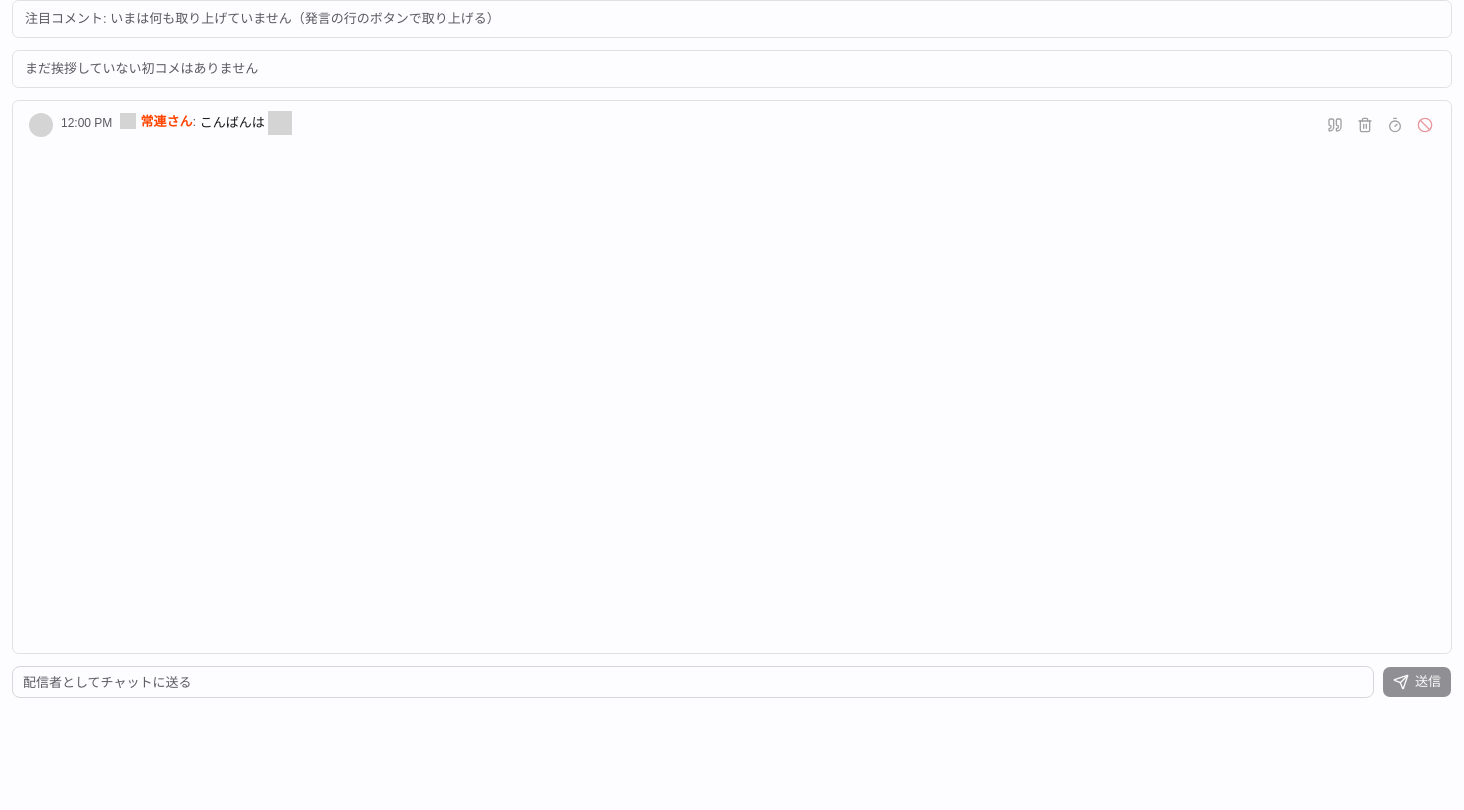
Test case: CommentsPage › 注目コメント › 発言の行のボタンを押すと、その発言を注目コメントに設定する
This screenshot has width=1464, height=810.
Click the button named "この発言を注目コメントにする" at (1335, 125), box [1321, 111, 1349, 139]
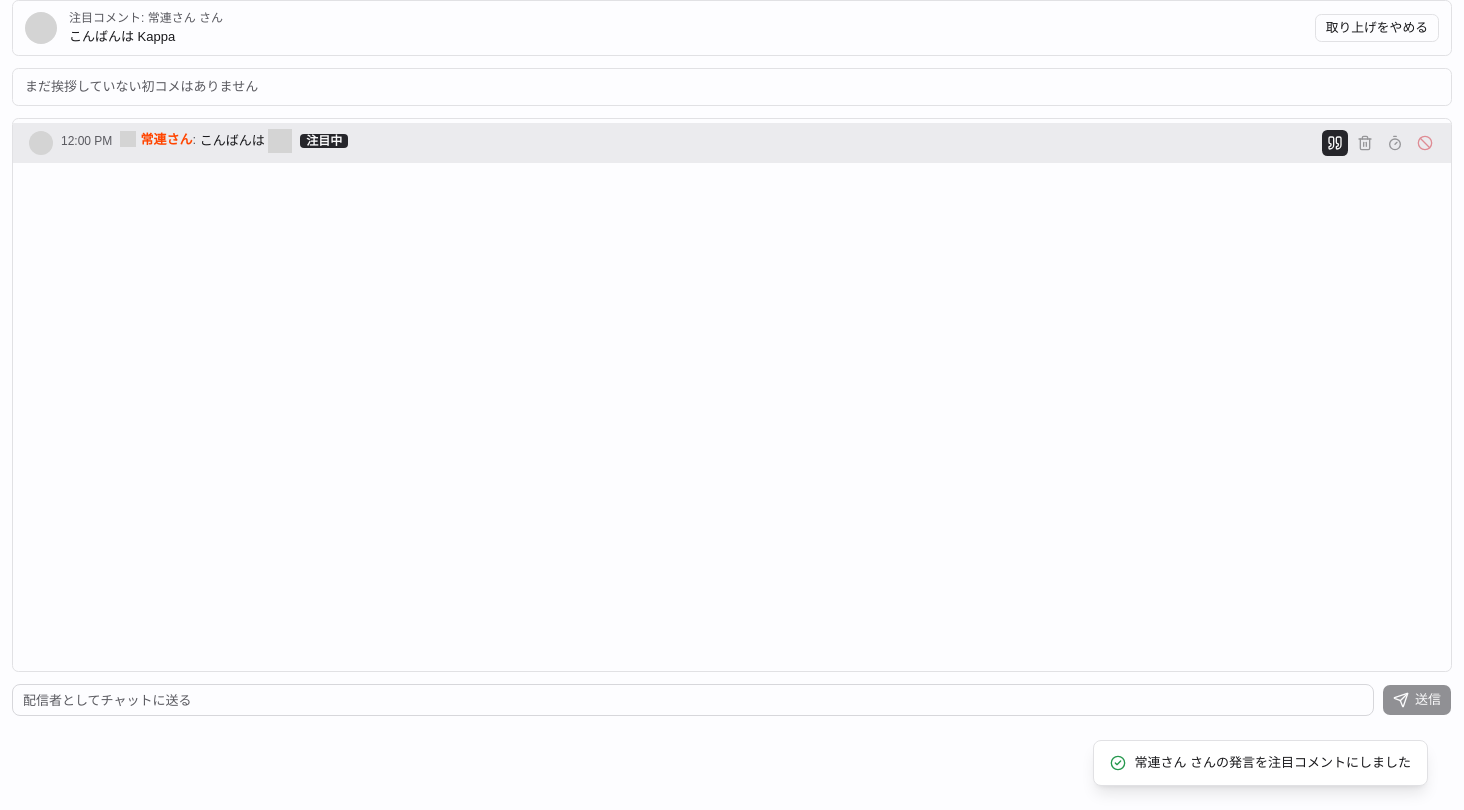
Result: the text "常連さん さんの発言を注目コメントにしました" is shown at [1093, 740, 1428, 786]
Result: the list item shows "注目中" at [306, 134, 342, 148]
